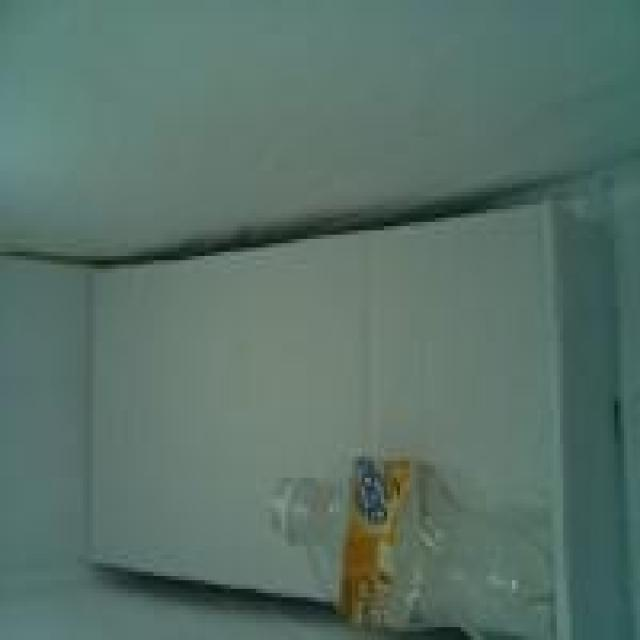bottle: (248, 425, 584, 640)
